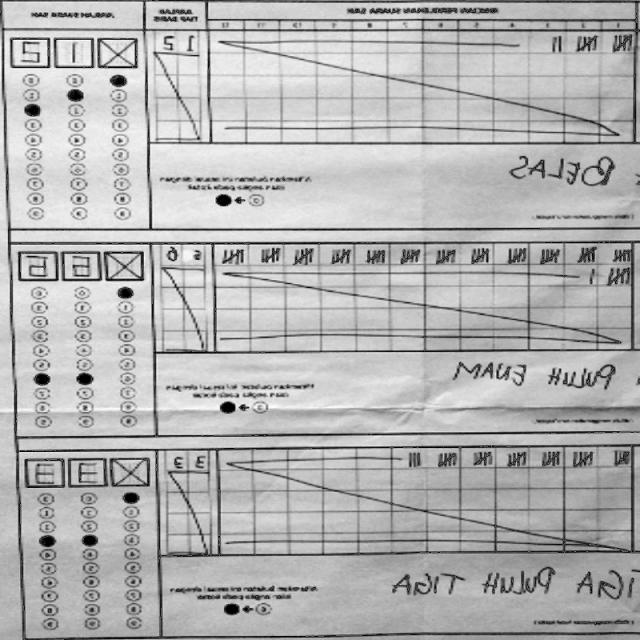Suara: (14, 246, 148, 284), (6, 34, 141, 71), (20, 454, 154, 491)
